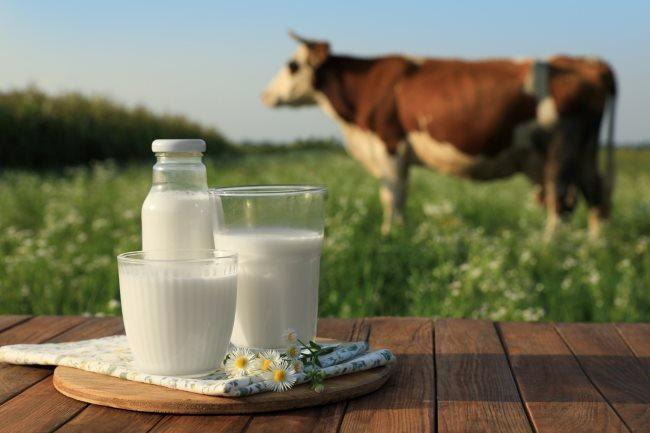produk_susu: (137, 260, 220, 368), (248, 205, 311, 332), (158, 157, 200, 236)
